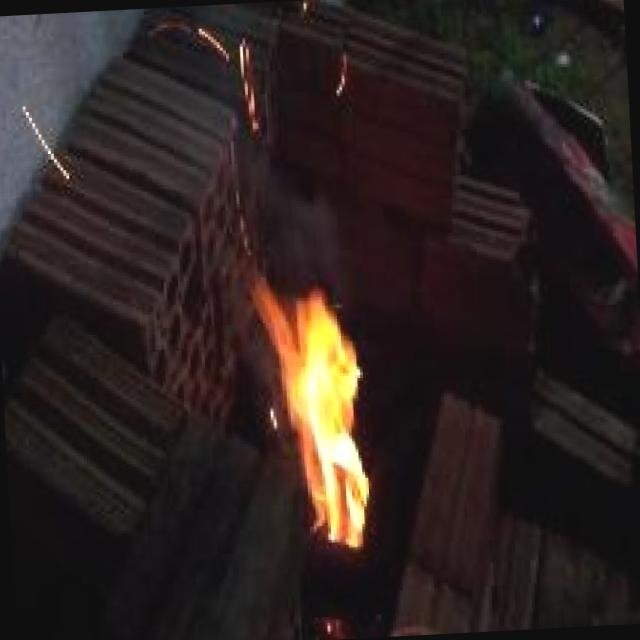fire: (233, 258, 398, 586)
